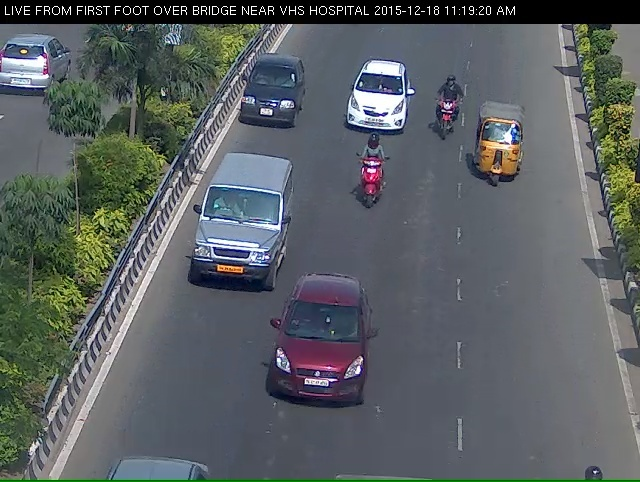Auto: (472, 111, 533, 189)
Car: (265, 291, 372, 435), (188, 160, 287, 307), (233, 58, 299, 138), (343, 61, 407, 138)
Person: (353, 142, 388, 219), (425, 76, 464, 141)
